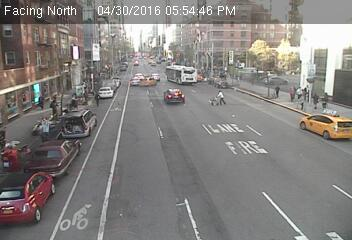neg: (164, 98, 183, 124), (84, 39, 103, 64), (111, 173, 128, 195), (251, 12, 267, 34), (185, 13, 201, 35), (50, 26, 66, 47), (131, 102, 146, 123), (261, 146, 276, 166), (208, 43, 221, 61), (225, 120, 237, 137), (137, 24, 149, 41), (273, 39, 285, 55), (200, 200, 211, 214), (293, 190, 304, 204), (307, 37, 318, 51), (129, 152, 139, 166), (254, 192, 264, 205), (209, 160, 219, 173), (116, 22, 126, 34), (68, 213, 77, 226), (156, 209, 165, 220), (142, 60, 151, 71), (175, 41, 182, 51)
pos: (317, 90, 335, 115), (213, 88, 229, 110), (308, 89, 324, 111), (36, 115, 52, 137), (292, 80, 308, 101), (47, 95, 63, 116), (91, 90, 106, 110), (285, 85, 300, 104), (300, 83, 312, 100), (36, 93, 47, 107), (272, 84, 282, 98)
